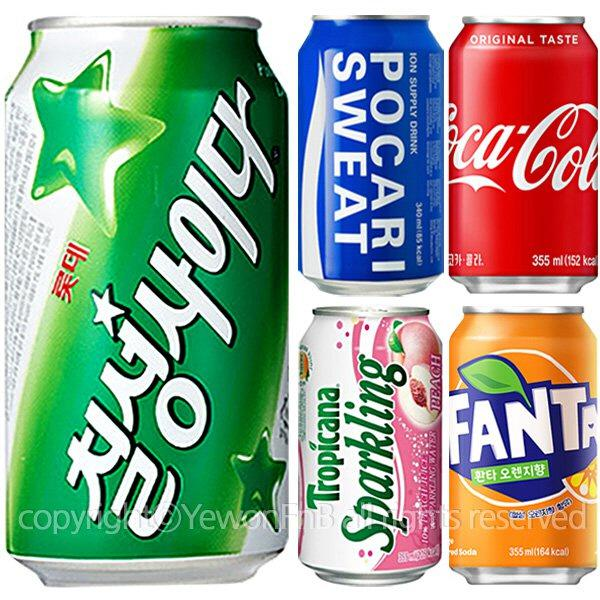chilsungcider: (0, 7, 297, 599)
cocacola: (442, 8, 599, 299)
fanta_orange: (454, 302, 597, 595)
